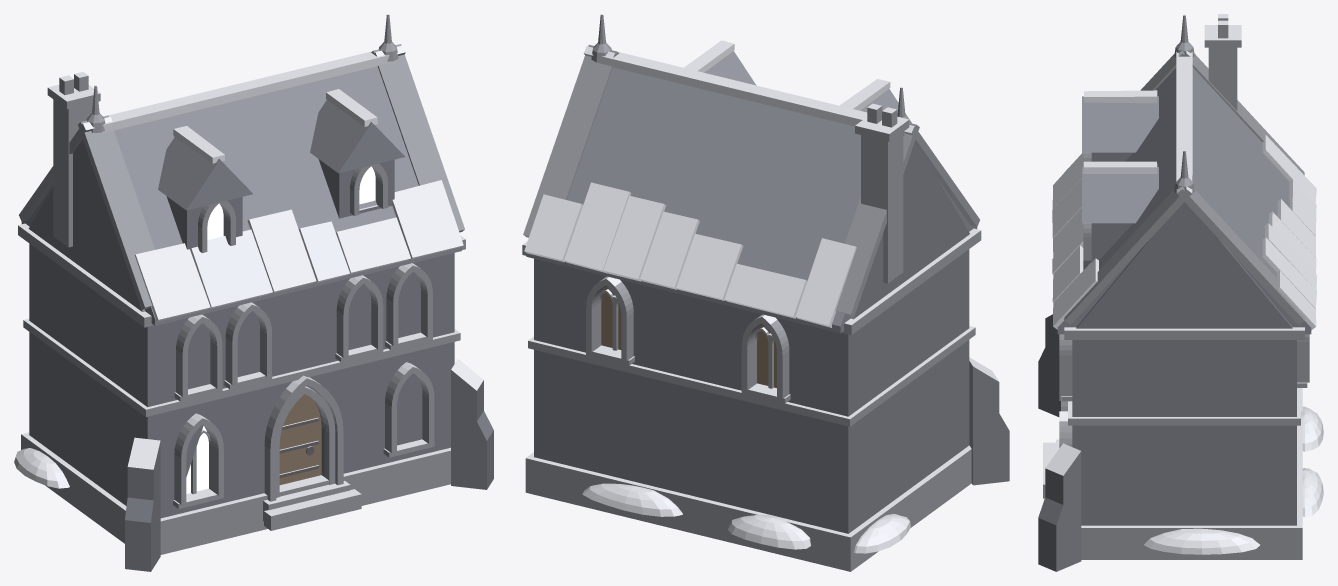
Rendered from AR_Casa_Larga.fbx.
3 renders of one model, left to right at view 1: azimuth 30°, elevation 25°; view 2: azimuth 150°, elevation 25°; view 3: azimuth 270°, elevation 25°, orthographic. The views are drawn at different scales.
Parts seen in each view (by area): view 1: AR_Casa_Larga; view 2: AR_Casa_Larga; view 3: AR_Casa_Larga.
Boxes of the visible parts, box(x1,y1,x2,y2) form: AR_Casa_Larga: box(14, 14, 493, 571); AR_Casa_Larga: box(522, 14, 1009, 571); AR_Casa_Larga: box(1038, 14, 1323, 571).
Size of the model in its own units: 12.62 by 13.87 by 8.9.
